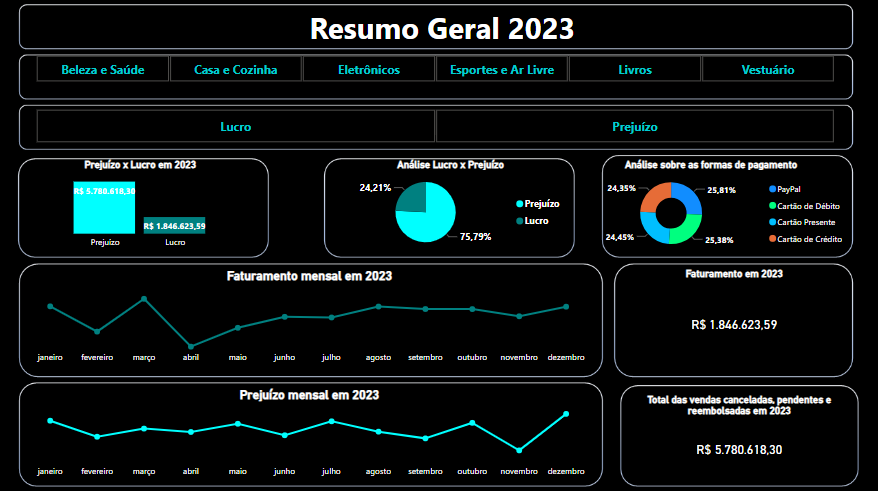

This screenshot's page, from the dashboard's own definition file:
{"tool":"powerbi","page":{"name":"Resumo_Geral_2023","canvas":[1280,720],"ordinal":4},"visuals":[{"type":"textbox","box":[52.3,7.1,1185.4,67.9],"z":0},{"type":"columnChart","title":"Prejuízo x Lucro em 2023","fields":{"Category":["Lucro_Prejuízo.Status do Pedido"],"Y":["Sum(Analise_Unificada.Preço Total)"]},"box":[11.3,233.4,387.6,138.6],"z":1000},{"type":"pieChart","title":"Análise Lucro x Prejuízo","fields":{"Category":["Lucro_Prejuízo.Status do Pedido"],"Y":["Sum(Analise_Unificada.Preço Total)"]},"box":[483.8,233.4,345.1,138.6],"z":2000},{"type":"lineChart","title":"Prejuízo mensal em 2023","fields":{"Category":["Analise_Unificada.Data do Pedido.Variation.Hierarquia de datas.Mês"],"Y":["Sum(Analise_Unificada.Preço Total)"]},"box":[42.4,564.4,819,140],"z":3000},{"type":"slicer","fields":{"Values":["Analise_Unificada.Categoria do Produto"]},"box":[29.7,75,1209.4,50.9],"z":4000},{"type":"card","title":"Faturamento em 2023","fields":{"Values":["Sum(Analise_Unificada.Preço Total)"]},"box":[902.5,391.8,335.2,148.5],"z":5000},{"type":"card","title":"Total das vendas canceladas, pendentes e reembolsadas em 2023","fields":{"Values":["Sum(Analise_Unificada.Preço Total)"]},"box":[913.8,574.3,326.8,130.1],"z":6000},{"type":"lineChart","title":"Faturamento mensal em 2023","fields":{"Category":["Analise_Unificada.Data do Pedido.Variation.Hierarquia de datas.Mês"],"Y":["Sum(Analise_Unificada.Preço Total)"]},"box":[42.4,391.8,819,148.5],"z":7000},{"type":"donutChart","title":"Análise sobre as formas de pagamento","fields":{"Category":["Analise_Unificada.Tipo de Pagamento"],"Y":["Sum(Analise_Unificada.Preço Total)"]},"box":[830.3,233.4,410.2,141.5],"z":8000},{"type":"slicer","fields":{"Values":["Lucro_Prejuízo.Status do Pedido"]},"box":[29.7,154.2,1209.4,60.8],"z":9000}]}

Visuals, with their boxes in screenshot pixels (x1, y1, x2, y2), scaled from the page's 1280x720 canvas onto the 878x491 screenshot:
textbox: 36:5:849:51
"Prejuízo x Lucro em 2023" columnChart: 8:159:274:254
"Análise Lucro x Prejuízo" pieChart: 332:159:569:254
"Prejuízo mensal em 2023" lineChart: 29:385:591:480
slicer - Analise_Unificada.Categoria do Produto: 20:51:850:86
"Faturamento em 2023" card: 619:267:849:368
"Total das vendas canceladas, pendentes e reembolsadas em 2023" card: 627:392:851:480
"Faturamento mensal em 2023" lineChart: 29:267:591:368
"Análise sobre as formas de pagamento" donutChart: 570:159:851:256
slicer - Lucro_Prejuízo.Status do Pedido: 20:105:850:147
